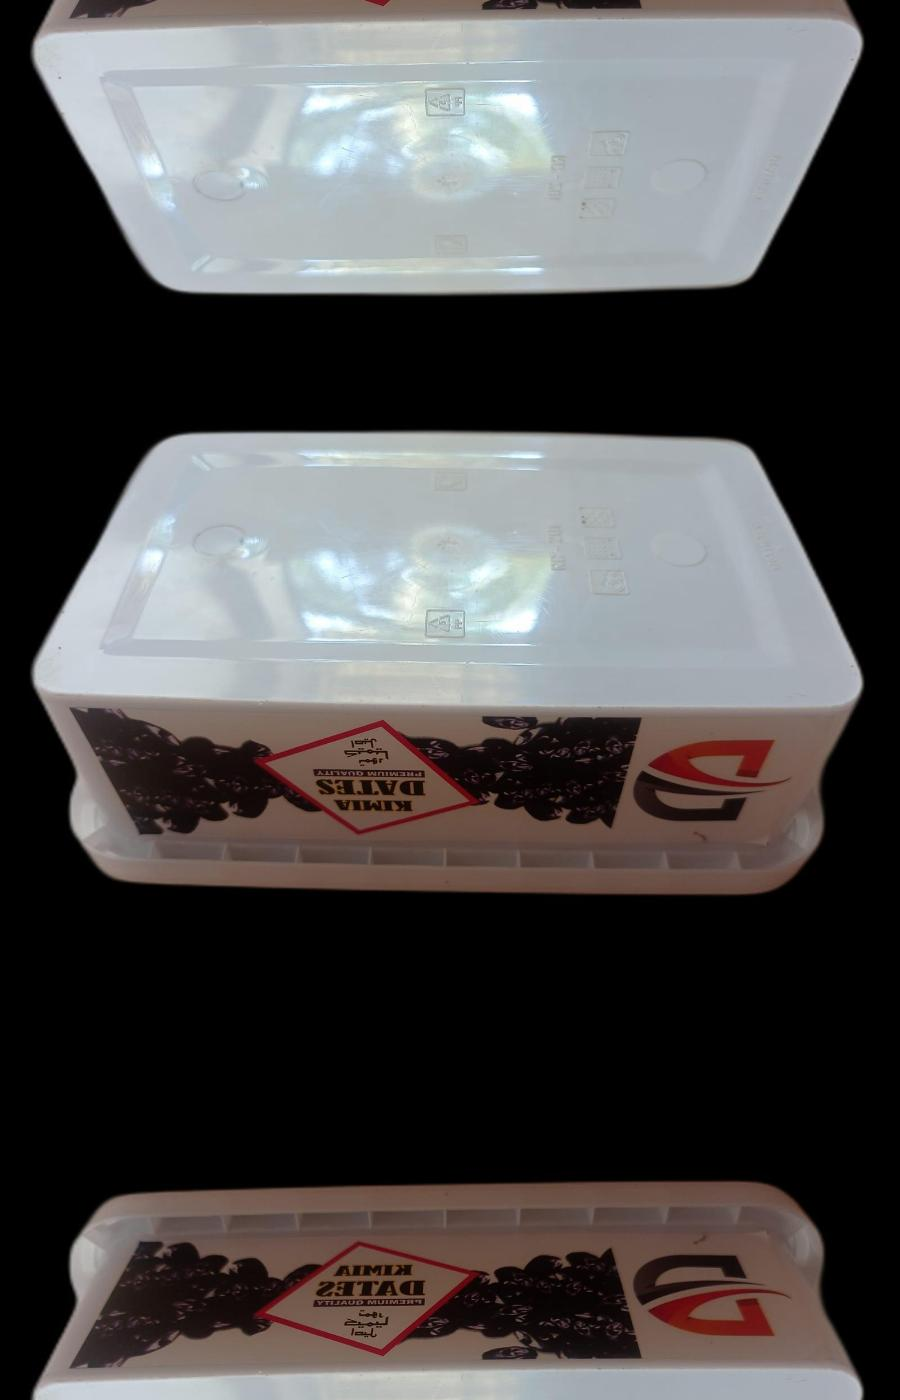Kimia Dates: (33, 427, 865, 893), (33, 0, 865, 297), (33, 1181, 865, 1400)
